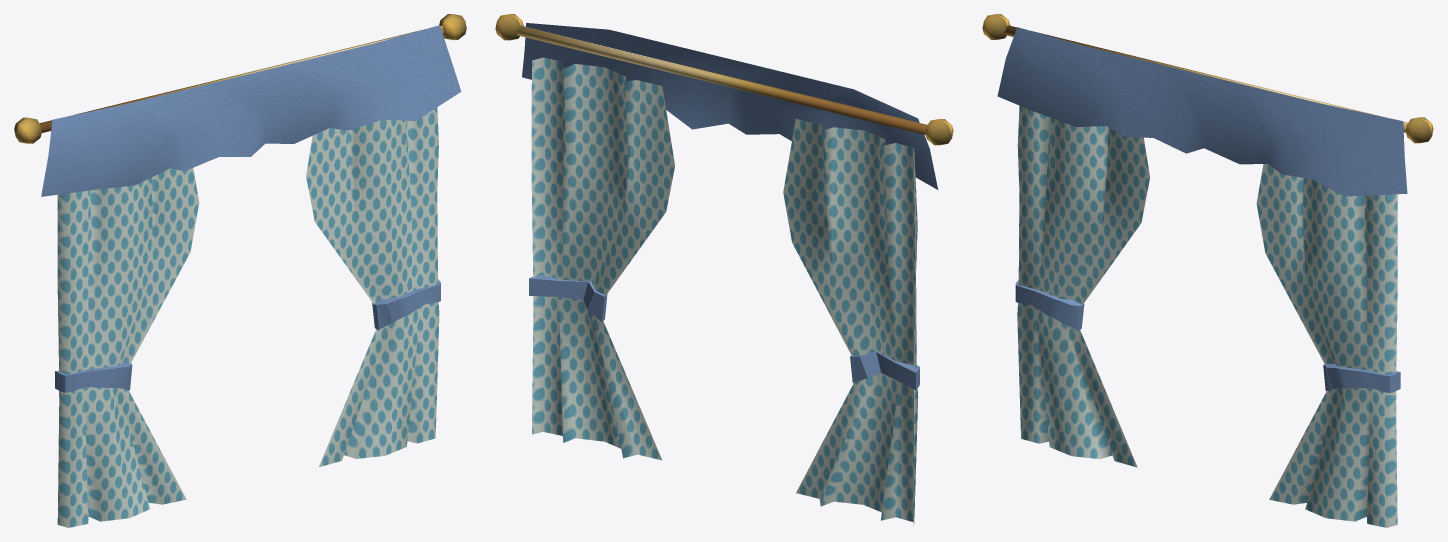
The model's file is Curtains_01_K.FBX.
3 renders of one model, left to right at view 1: azimuth 30°, elevation 25°; view 2: azimuth 150°, elevation 25°; view 3: azimuth 330°, elevation 25°, orthographic.
Visible parts, largest first — view 1: Curtains_01; view 2: Curtains_01; view 3: Curtains_01.
Part boxes in pixels (box(x1,y1,x2,y2)): Curtains_01: box(14, 14, 466, 527); Curtains_01: box(495, 14, 953, 526); Curtains_01: box(982, 14, 1433, 527).
Bounding box in the file's own units: 251 × 221 × 25.59.
